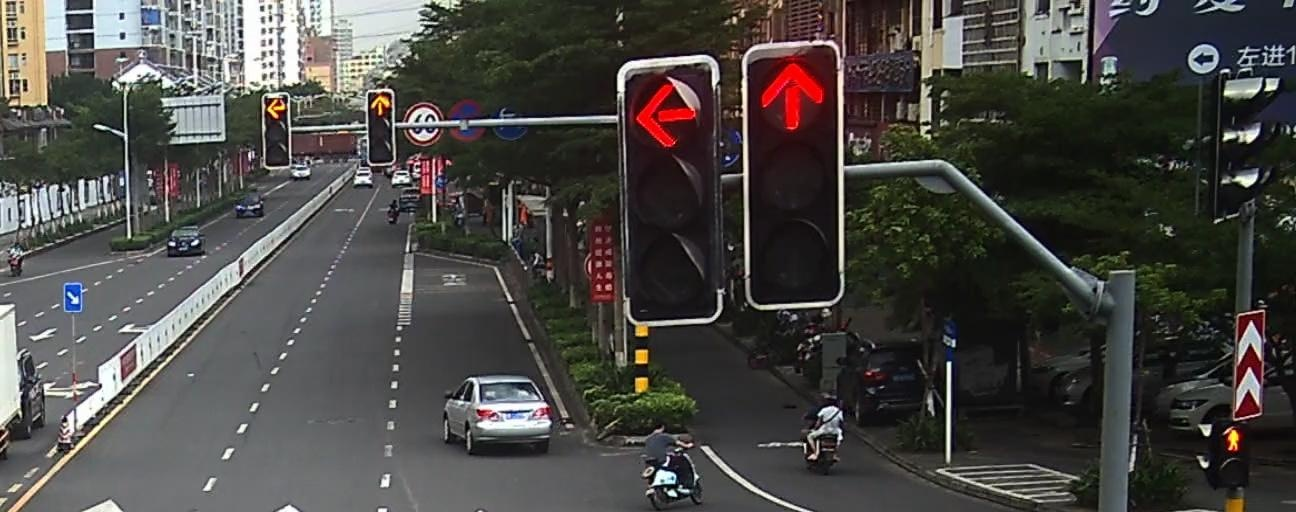redleft: (630, 80, 700, 149), (265, 95, 287, 120)
redpeople: (1220, 425, 1247, 455)
redstraight: (757, 58, 827, 132), (368, 92, 394, 117)
